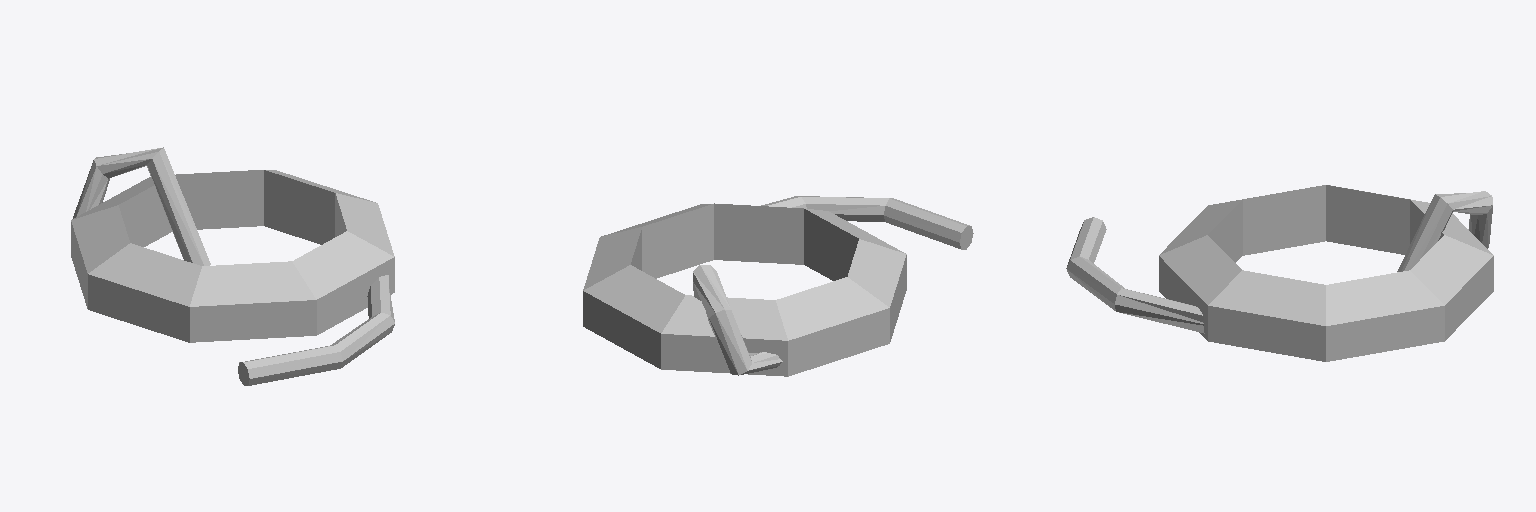
The model's file is Environtment Rope.obj.
The picture shows the model from 3 angles: view 1: azimuth 30°, elevation 25°; view 2: azimuth 150°, elevation 25°; view 3: azimuth 270°, elevation 25°; orthographic projection.
Size of the model in its own units: 0.5098 by 0.1779 by 0.6505.